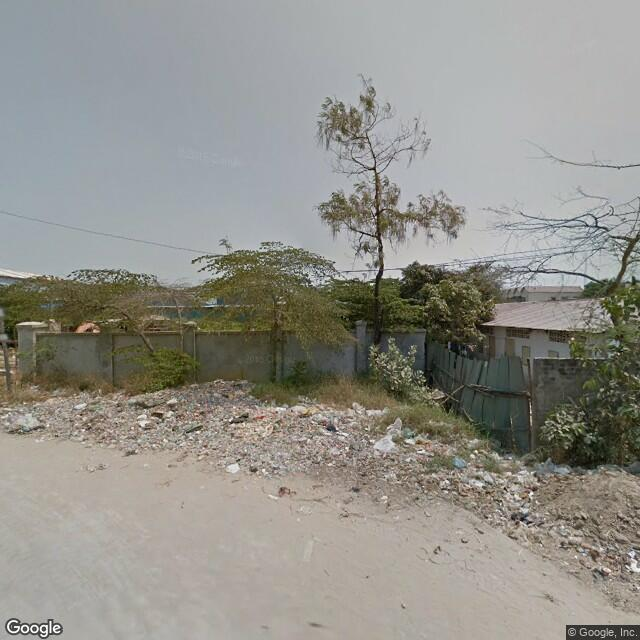litter: (311, 415, 369, 454), (6, 411, 51, 446), (530, 459, 575, 489), (229, 407, 272, 427), (277, 482, 305, 510), (443, 452, 478, 471), (511, 511, 535, 531), (216, 460, 242, 477), (135, 410, 156, 427)
